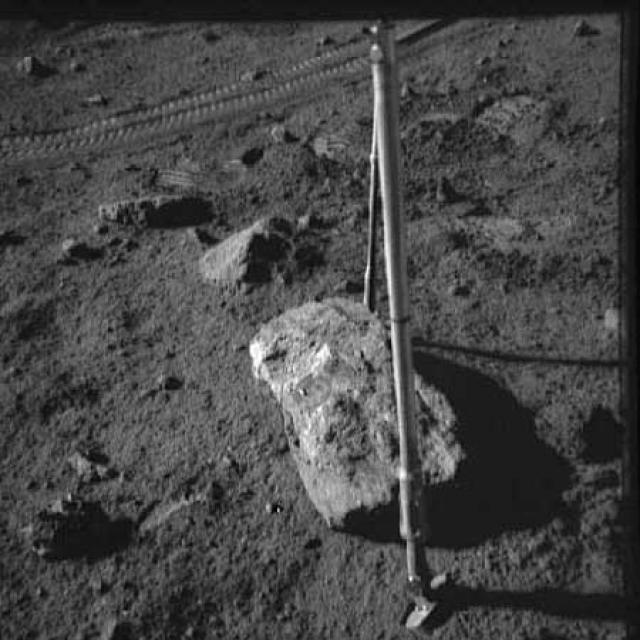rock: (240, 296, 470, 536), (205, 207, 304, 294), (24, 493, 106, 556), (99, 185, 206, 225), (58, 443, 120, 482), (429, 174, 472, 210), (8, 51, 46, 77), (268, 119, 299, 150), (60, 233, 85, 265), (569, 18, 598, 42), (155, 369, 183, 393), (84, 91, 118, 110), (65, 60, 85, 78)
